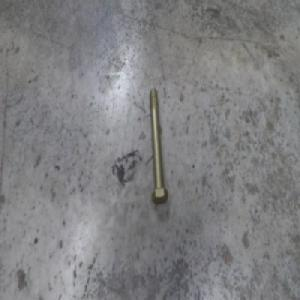Bolt: (146, 86, 168, 201)
